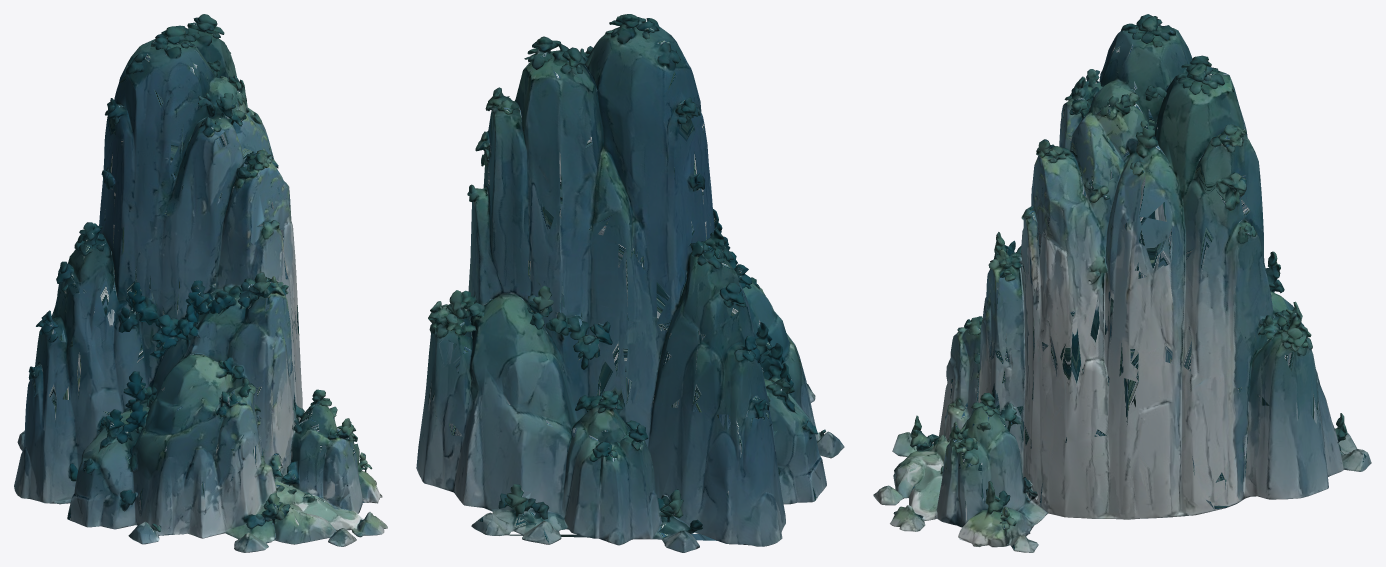
Rendered from mountain1.glb.
3 views of the same model, side by side, from view 1: azimuth 30°, elevation 25°; view 2: azimuth 150°, elevation 25°; view 3: azimuth 270°, elevation 25° (orthographic). The views are drawn at different scales.
Parts seen in each view (by area): view 1: lod0; view 2: lod0; view 3: lod0.
Boxes of the visible parts, x1=… form: lod0: x1=14, y1=14, x2=387, y2=552; lod0: x1=416, y1=14, x2=844, y2=552; lod0: x1=873, y1=14, x2=1371, y2=552.
Size of what is drawn, in the model's own units: 0.6643 by 0.9996 by 0.9667.
Materials: 1 (1 with a texture image).
